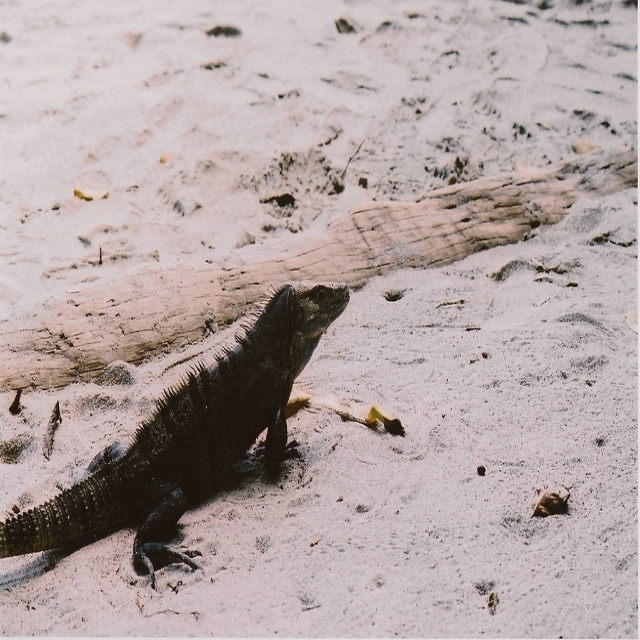Lizard: (0, 301, 290, 606)
